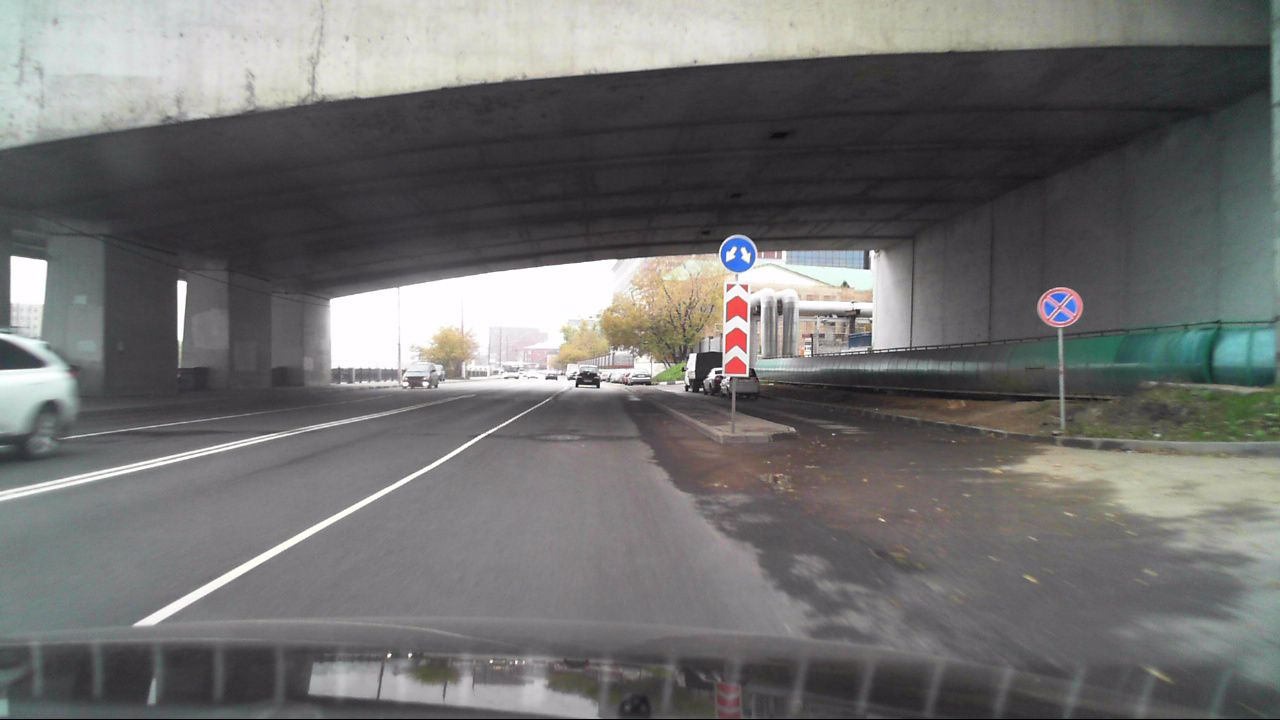No Parking: (1038, 285, 1083, 329)
